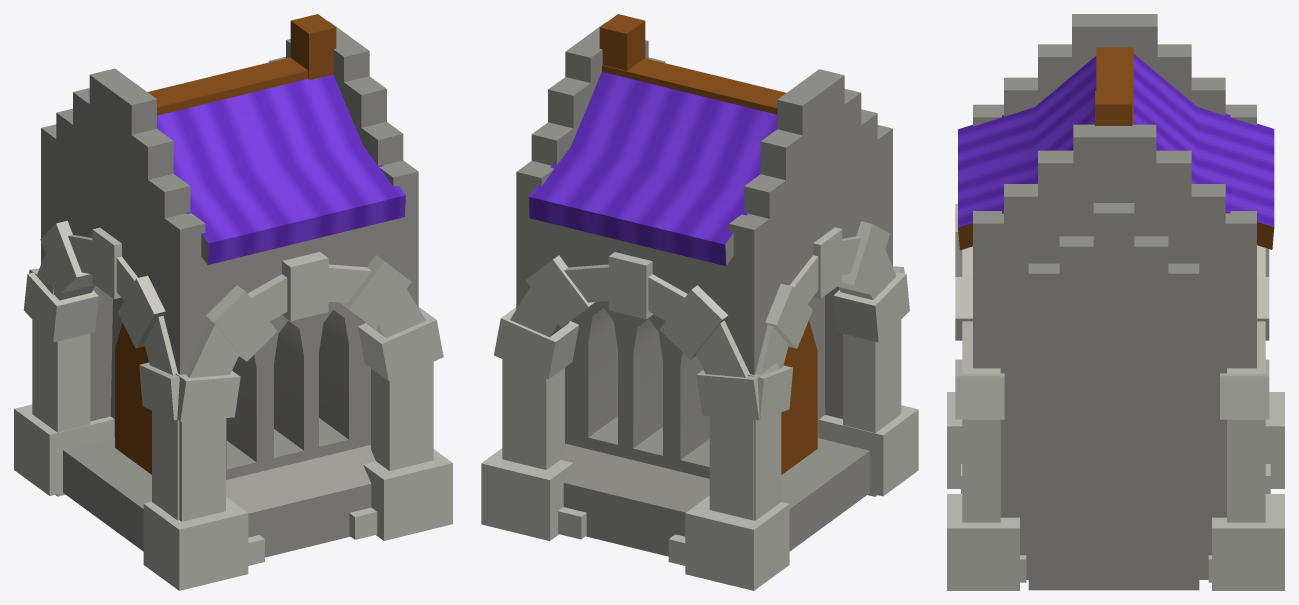
The model's file is throneroom.fbx.
3 renders of one model, left to right at view 1: azimuth 30°, elevation 25°; view 2: azimuth 150°, elevation 25°; view 3: azimuth 270°, elevation 25°, orthographic. The views are drawn at different scales.
Parts seen in each view (by area): view 1: polySurface113; view 2: polySurface113; view 3: polySurface113.
Part boxes in pixels (box(x1,y1,x2,y2)): polySurface113: box(14, 14, 452, 590); polySurface113: box(481, 14, 918, 590); polySurface113: box(947, 14, 1284, 590).
Bounding box in the file's own units: 113 × 180 × 118.
Materials: 1 (1 with a texture image).
